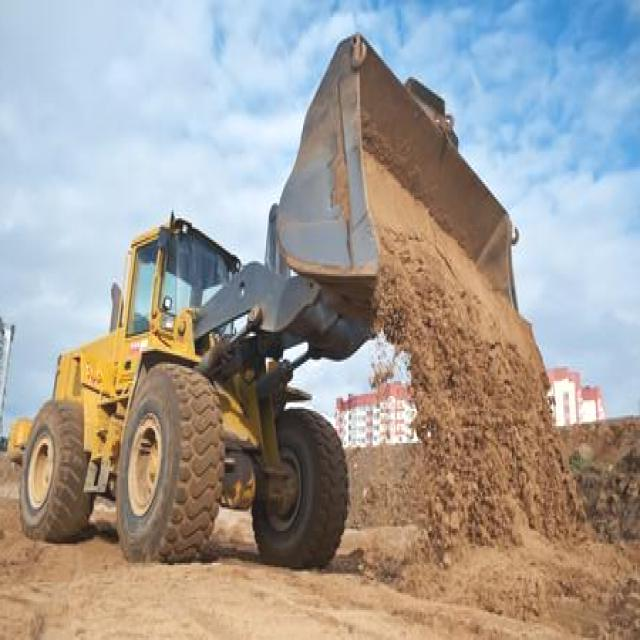machinery: (14, 32, 549, 567)
